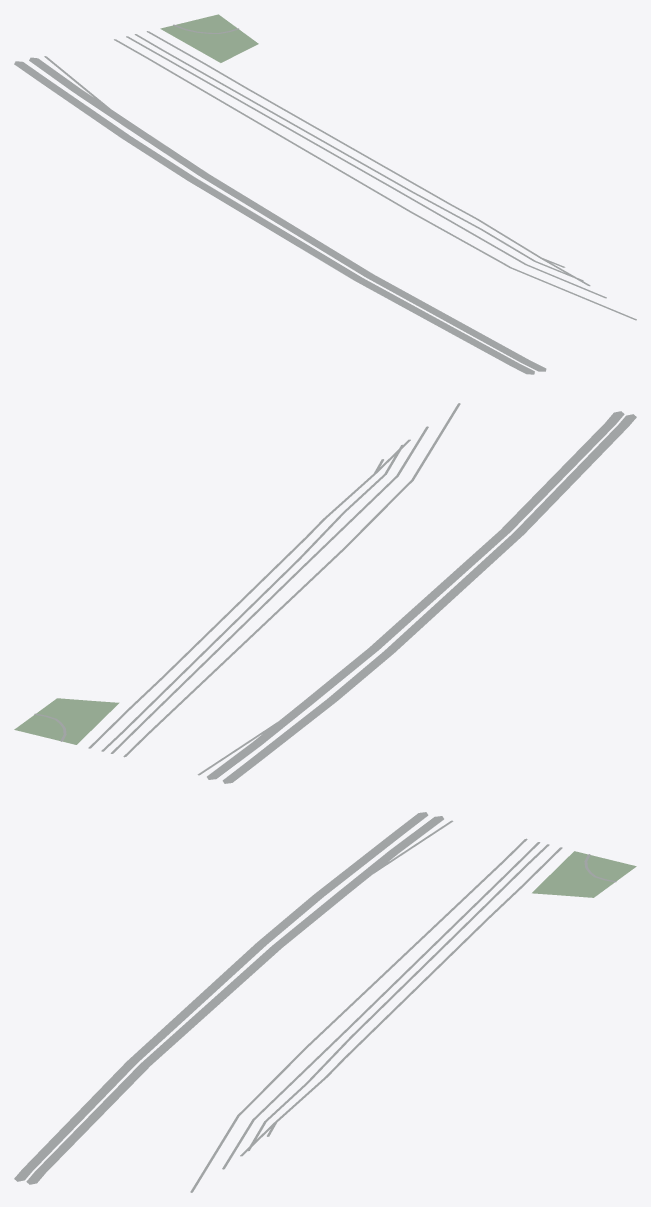
File: -28_20-known-fine.glb
3 views of the same model, one above another, from view 1: azimuth 30°, elevation 25°; view 2: azimuth 150°, elevation 25°; view 3: azimuth 330°, elevation 25° (orthographic). The views are drawn at different scales.
Size of the model in its own units: 265 by 0.1 by 1007.
